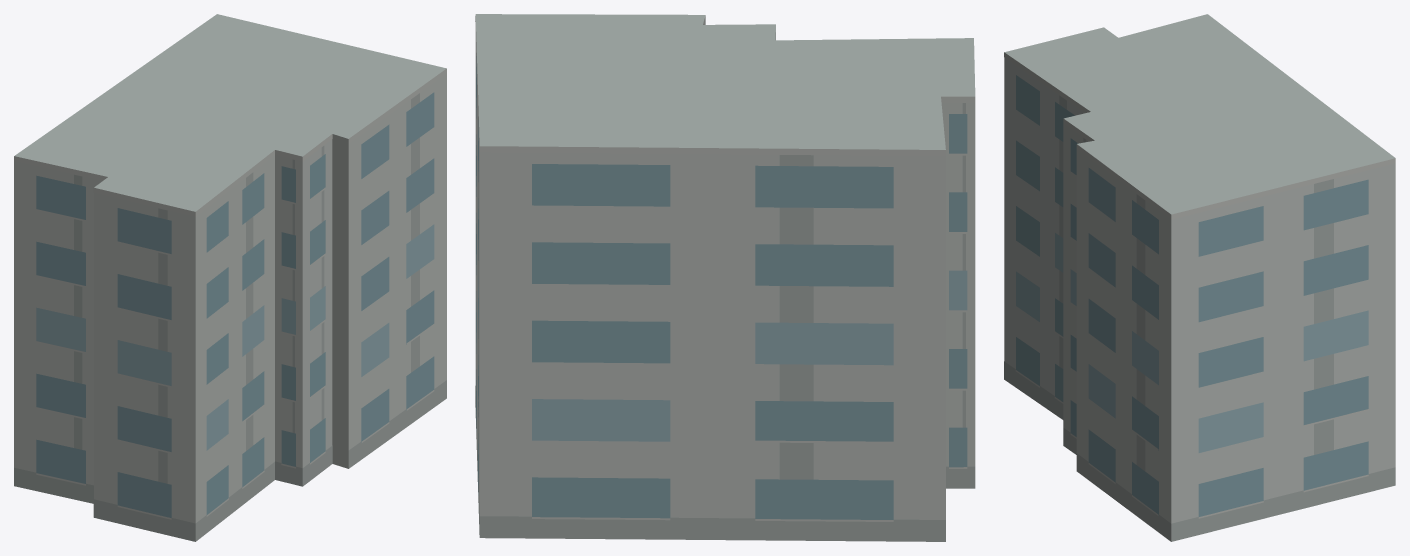
Rendered from survey-upis-32683266.glb.
3 renders of one model, left to right at view 1: azimuth 30°, elevation 25°; view 2: azimuth 150°, elevation 25°; view 3: azimuth 270°, elevation 25°, orthographic. The views are drawn at different scales.
Visible parts, largest first — view 1: survey-upis-32683266.tmp; view 2: survey-upis-32683266.tmp; view 3: survey-upis-32683266.tmp.
Part boxes in pixels (<box>): survey-upis-32683266.tmp: <box>14,14,446,541</box>; survey-upis-32683266.tmp: <box>475,14,975,541</box>; survey-upis-32683266.tmp: <box>1004,14,1395,541</box>.
Size of the model in its own units: 20.06 by 15.26 by 16.55.
